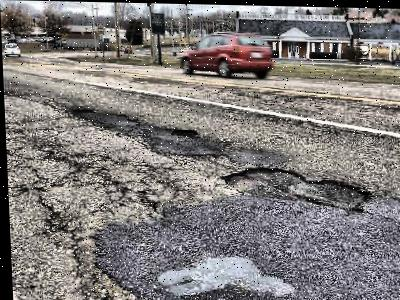pothole: (218, 165, 373, 212), (168, 126, 197, 137), (69, 105, 93, 114)
